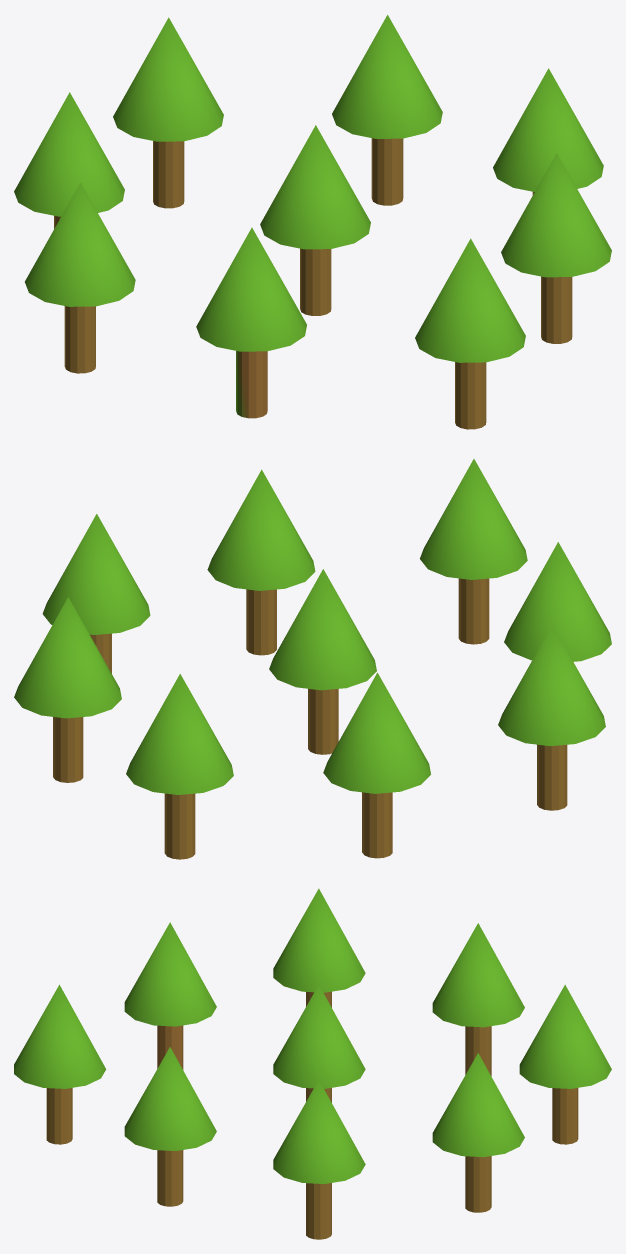
Rendered from forest.fbx.
The picture shows the model from 3 angles, top to bottom: view 1: azimuth 30°, elevation 25°; view 2: azimuth 150°, elevation 25°; view 3: azimuth 270°, elevation 25°; orthographic projection. The views are drawn at different scales.
Parts seen in each view (by area): view 1: Cone.010; view 2: Cone.010; view 3: Cone.010.
Part boxes in pixels (left/top/right/bottom): Cone.010: left=14, top=15, right=611, bottom=429; Cone.010: left=14, top=459, right=611, bottom=859; Cone.010: left=14, top=888, right=611, bottom=1239.
Bounding box in the file's own units: 70.22 × 21.95 × 76.96.
Materials: 1 (1 with a texture image).
